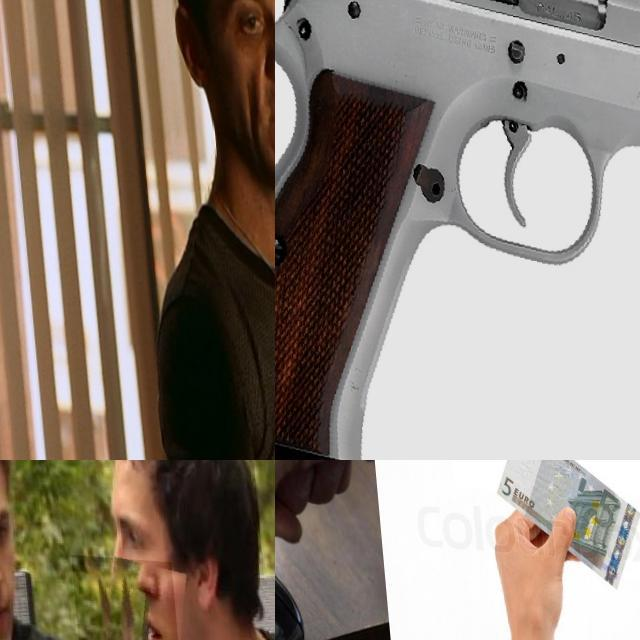-: (67, 550, 191, 640)
gun-knife-thesis - v11 Yolov5 augmented: (275, 0, 640, 460)
